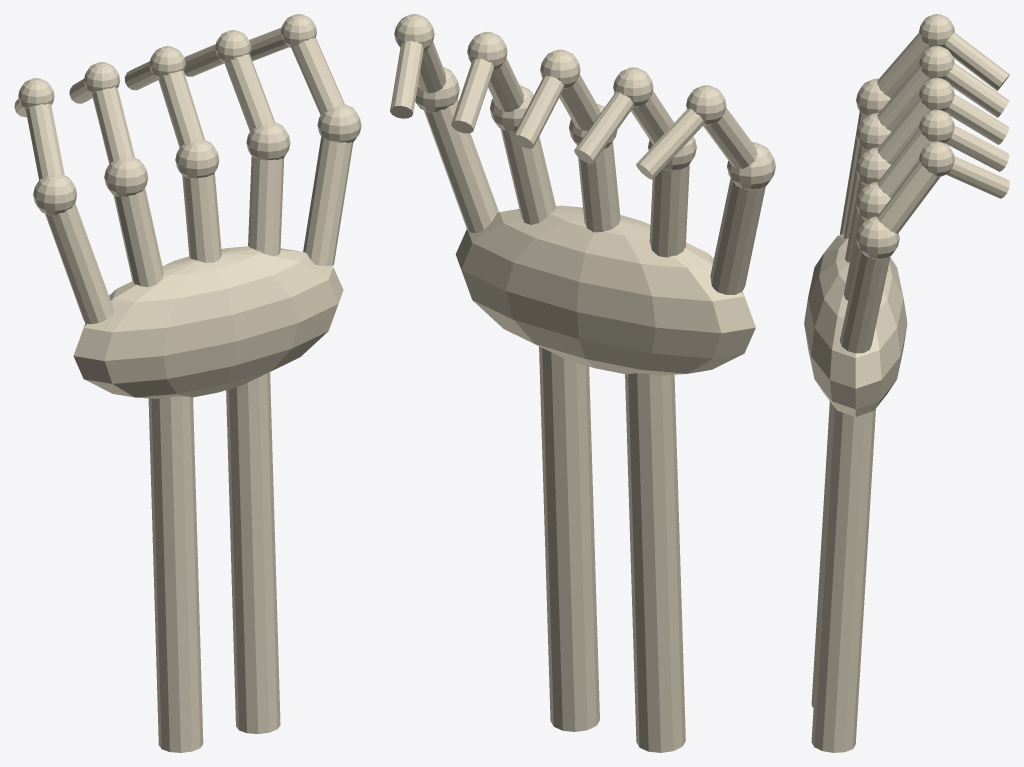
The model's file is BoneHand.obj.
3 views of the same model, side by side, from view 1: azimuth 30°, elevation 25°; view 2: azimuth 150°, elevation 25°; view 3: azimuth 270°, elevation 25° (orthographic). The views are drawn at different scales.
Parts seen in each view (by area): view 1: BoneHand; view 2: BoneHand; view 3: BoneHand.
Boxes of the visible parts, bbox=[...] form: BoneHand: bbox=[14, 14, 361, 752]; BoneHand: bbox=[390, 14, 775, 752]; BoneHand: bbox=[804, 14, 1009, 752].
Size of the model in its own units: 5.01 by 9.66 by 2.79.
